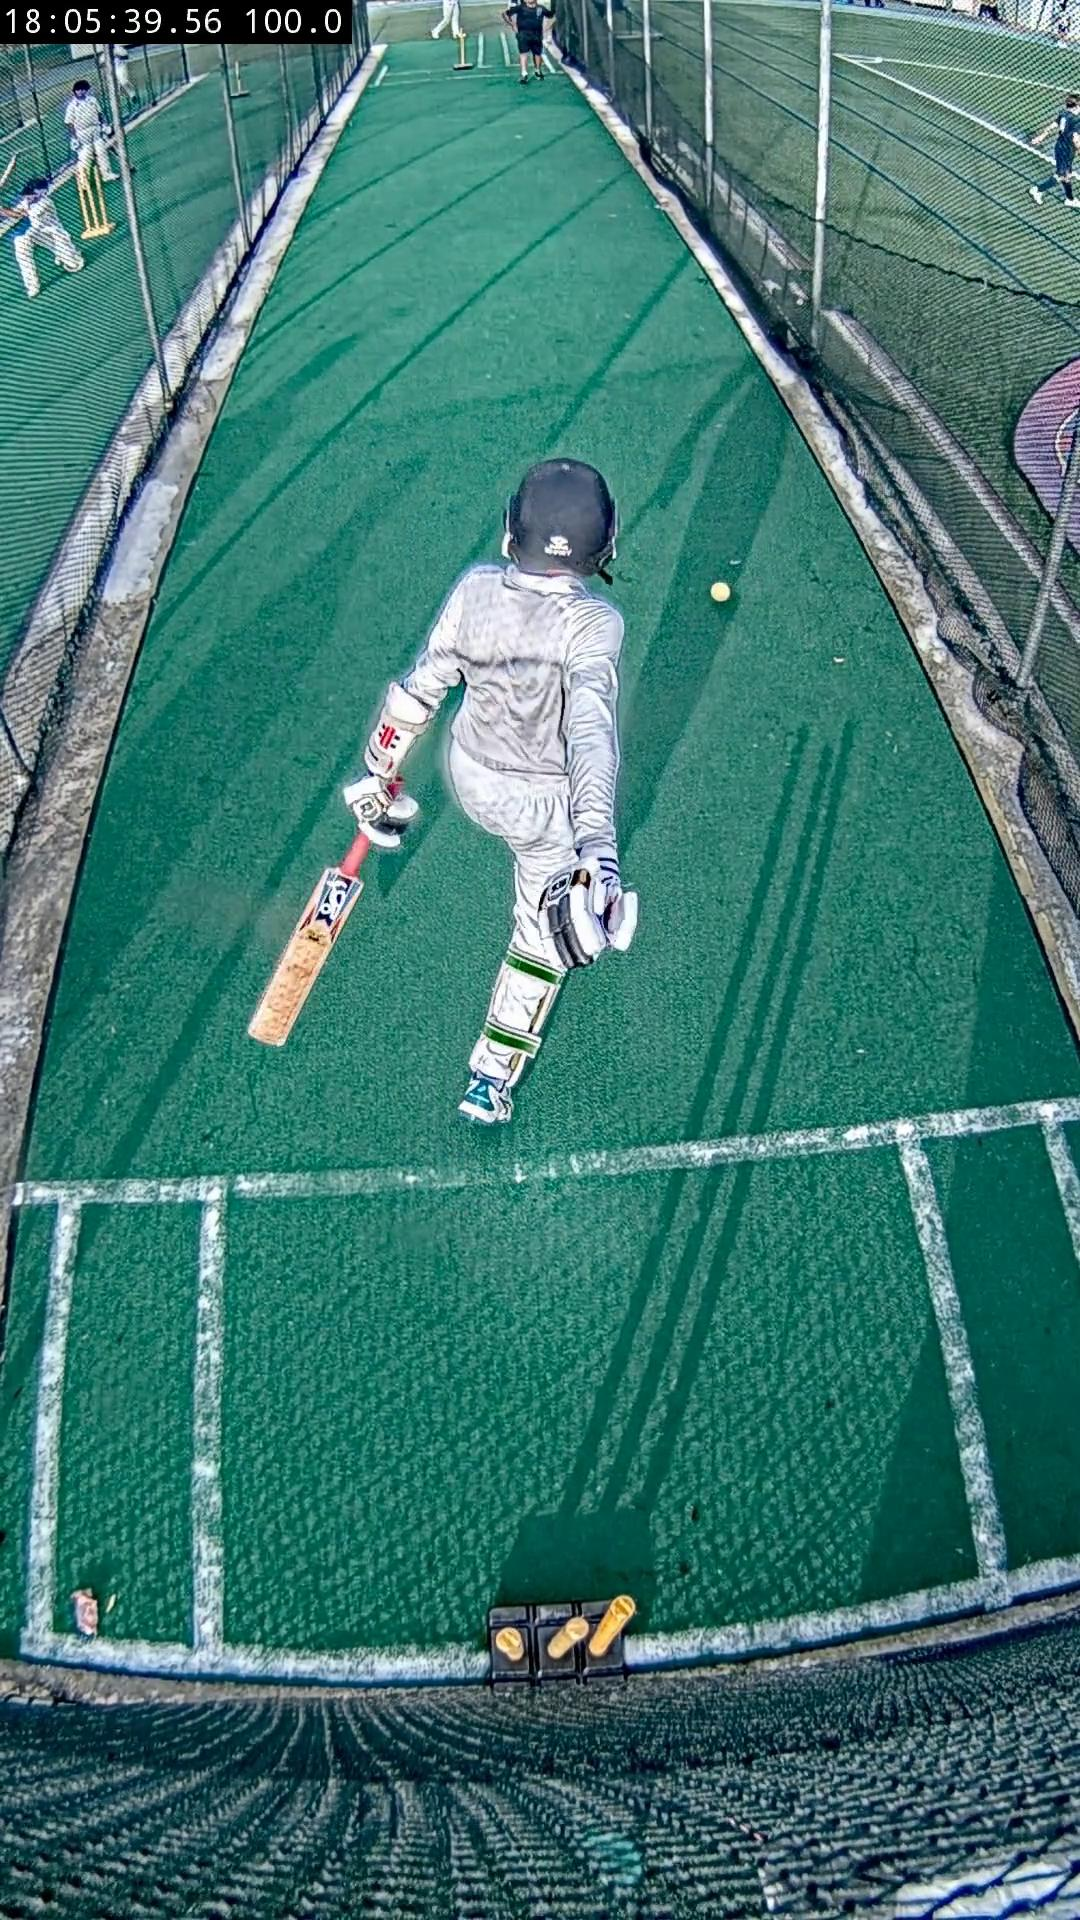ball: (708, 582, 732, 604)
bat: (248, 866, 364, 1046)
gloves: (541, 858, 637, 965), (342, 777, 417, 848)
helmet: (506, 458, 615, 574)
stumps: (488, 1594, 637, 1684)
